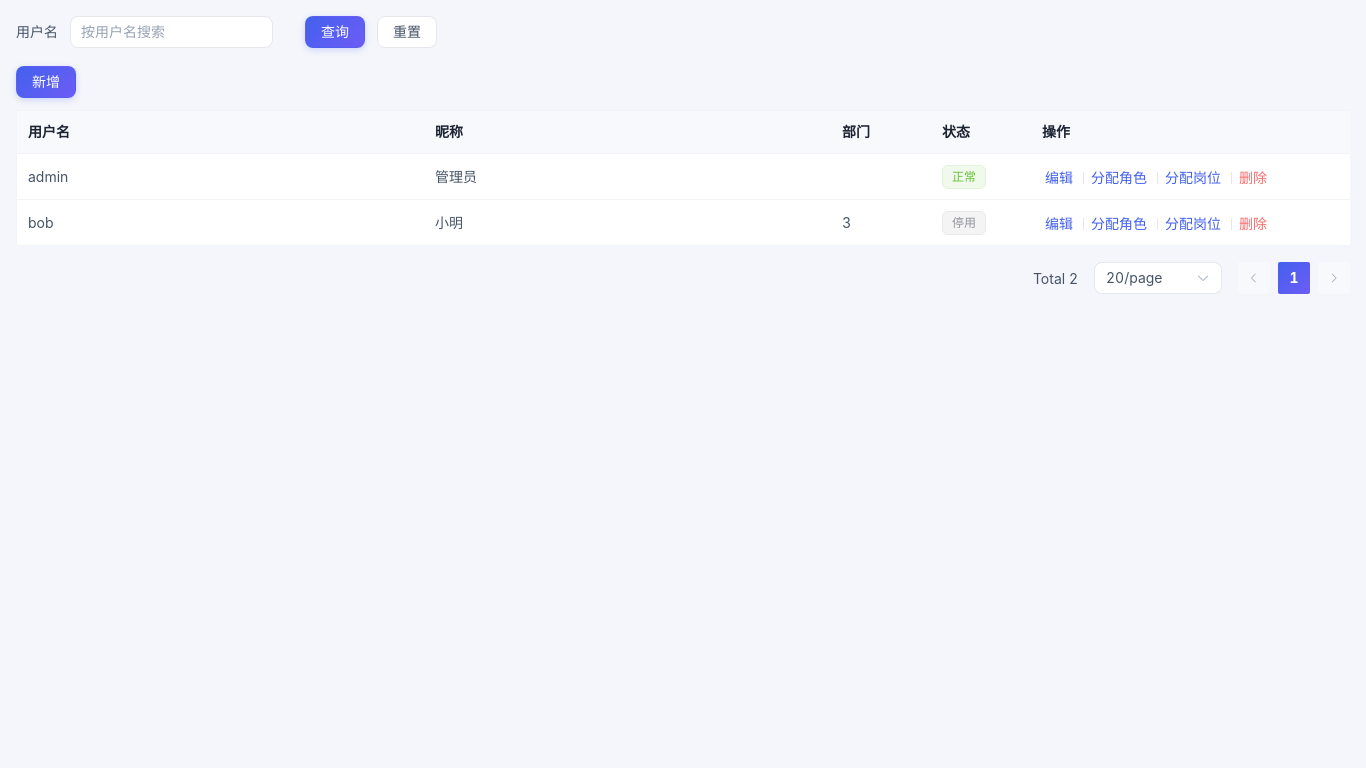
it: 用户管理页 › 点新增 → 打开表单对话框
Click the button "新增" at (46, 82), box [16,66,76,98]
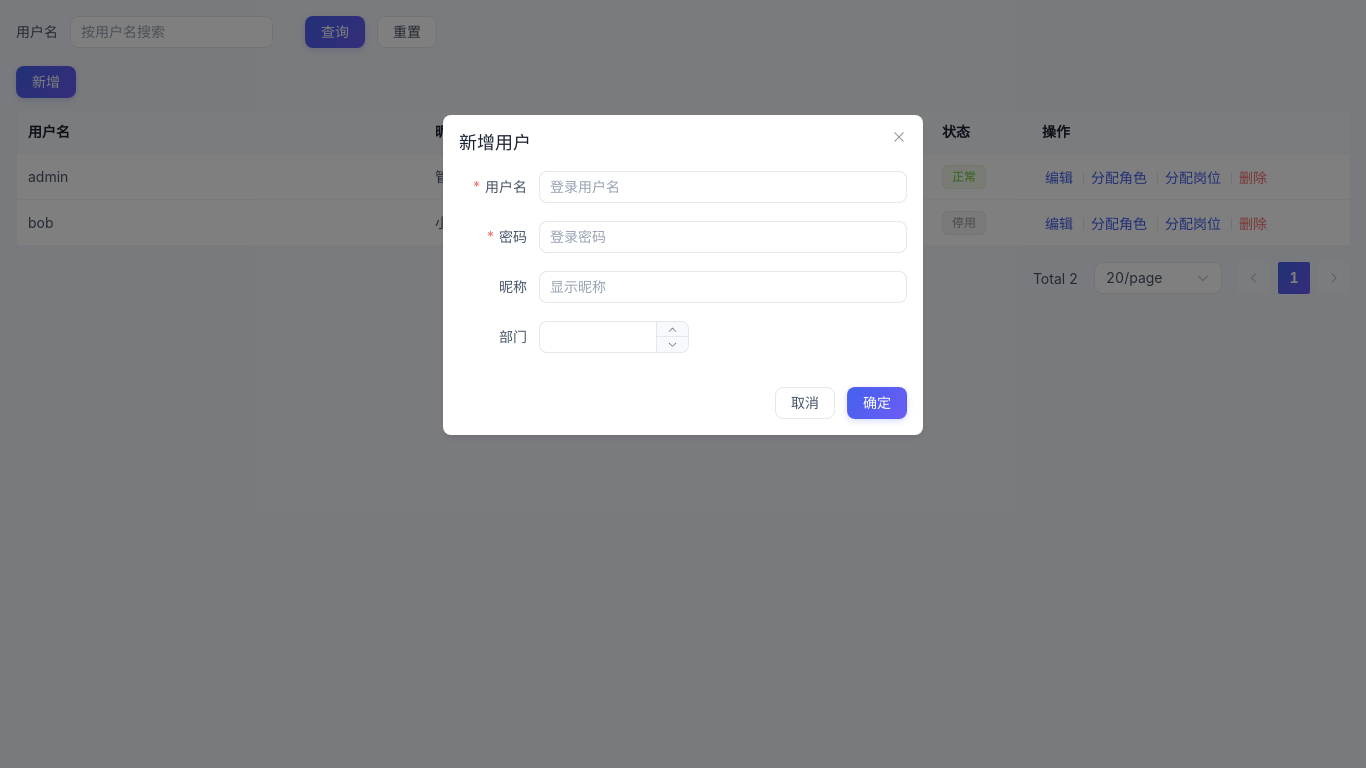
Result: the text "新增用户" is shown at [459,132,531,153]
